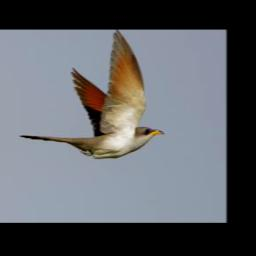Cuckoo: (20, 29, 164, 157)
